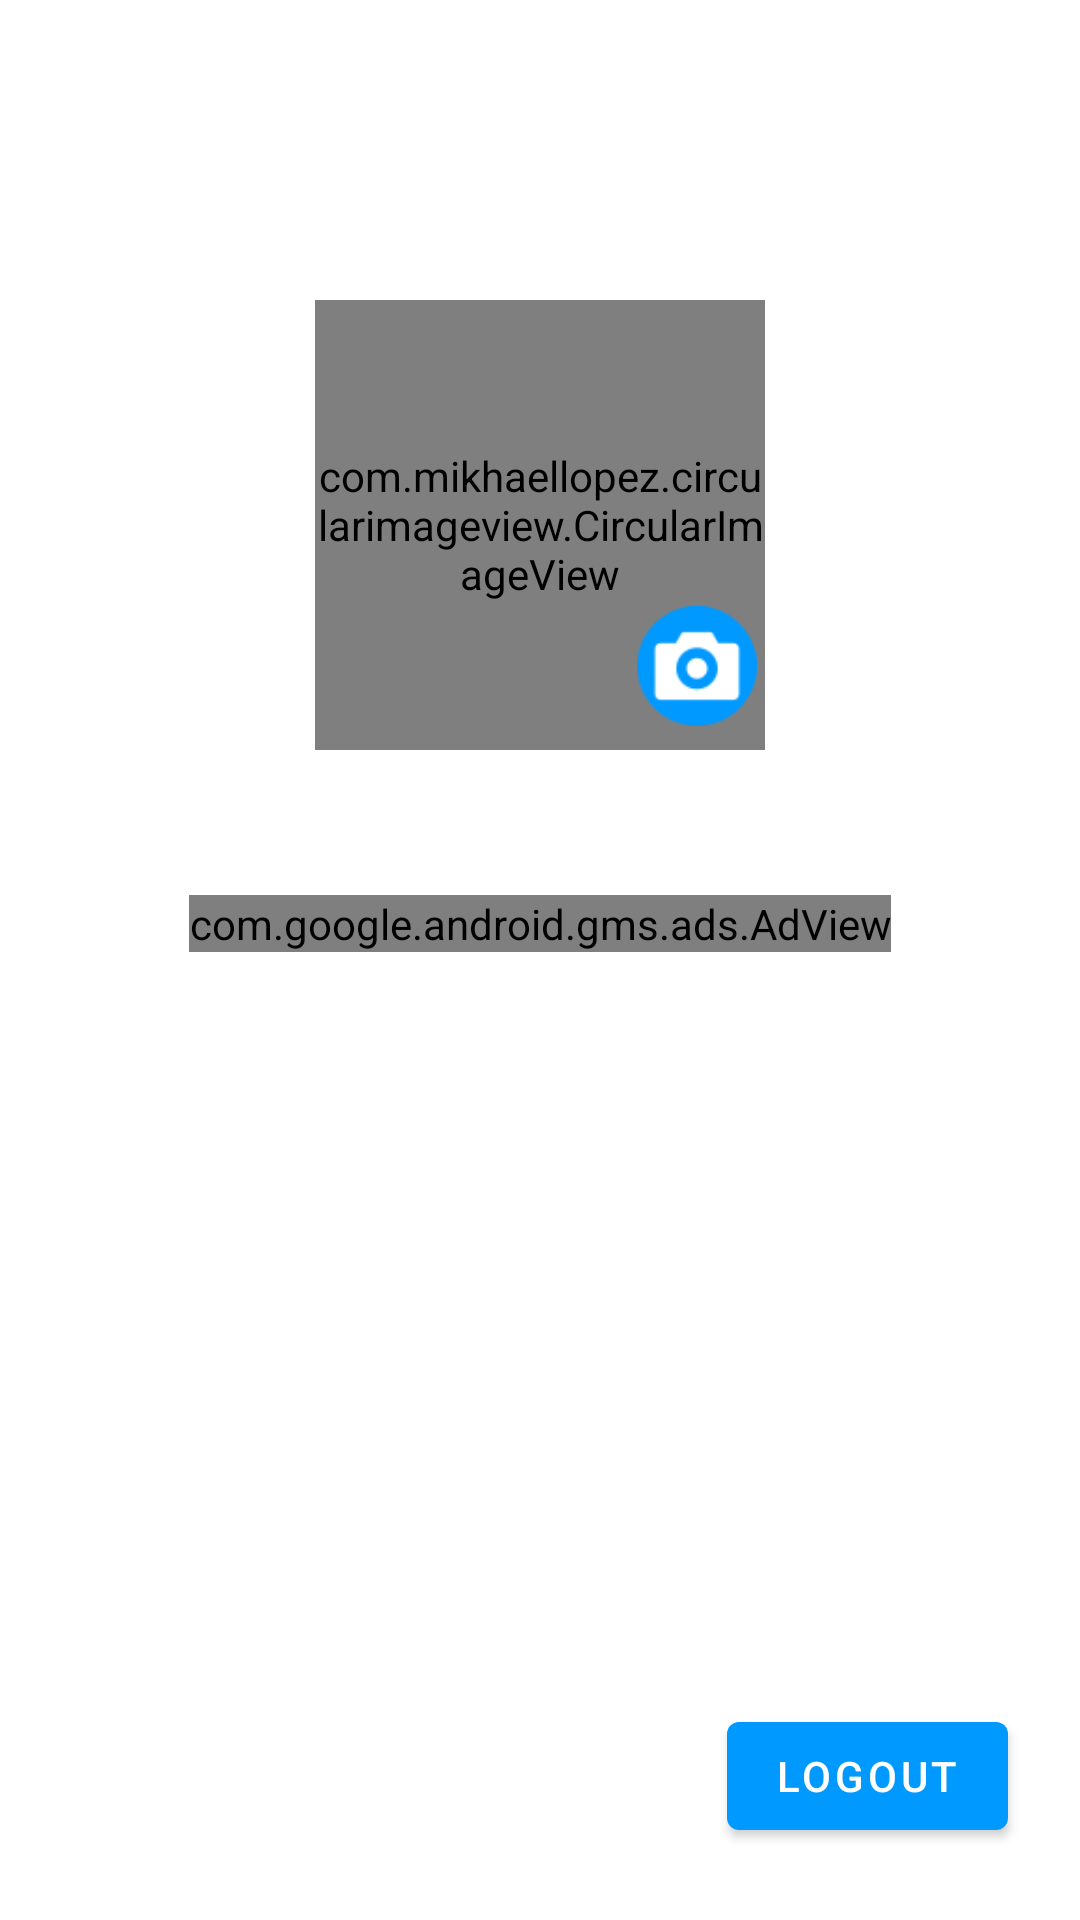

Where icons sit on this 1080x1920 app screen, as (x1, y1, x2, y2):
camera: (637, 606, 757, 726)
